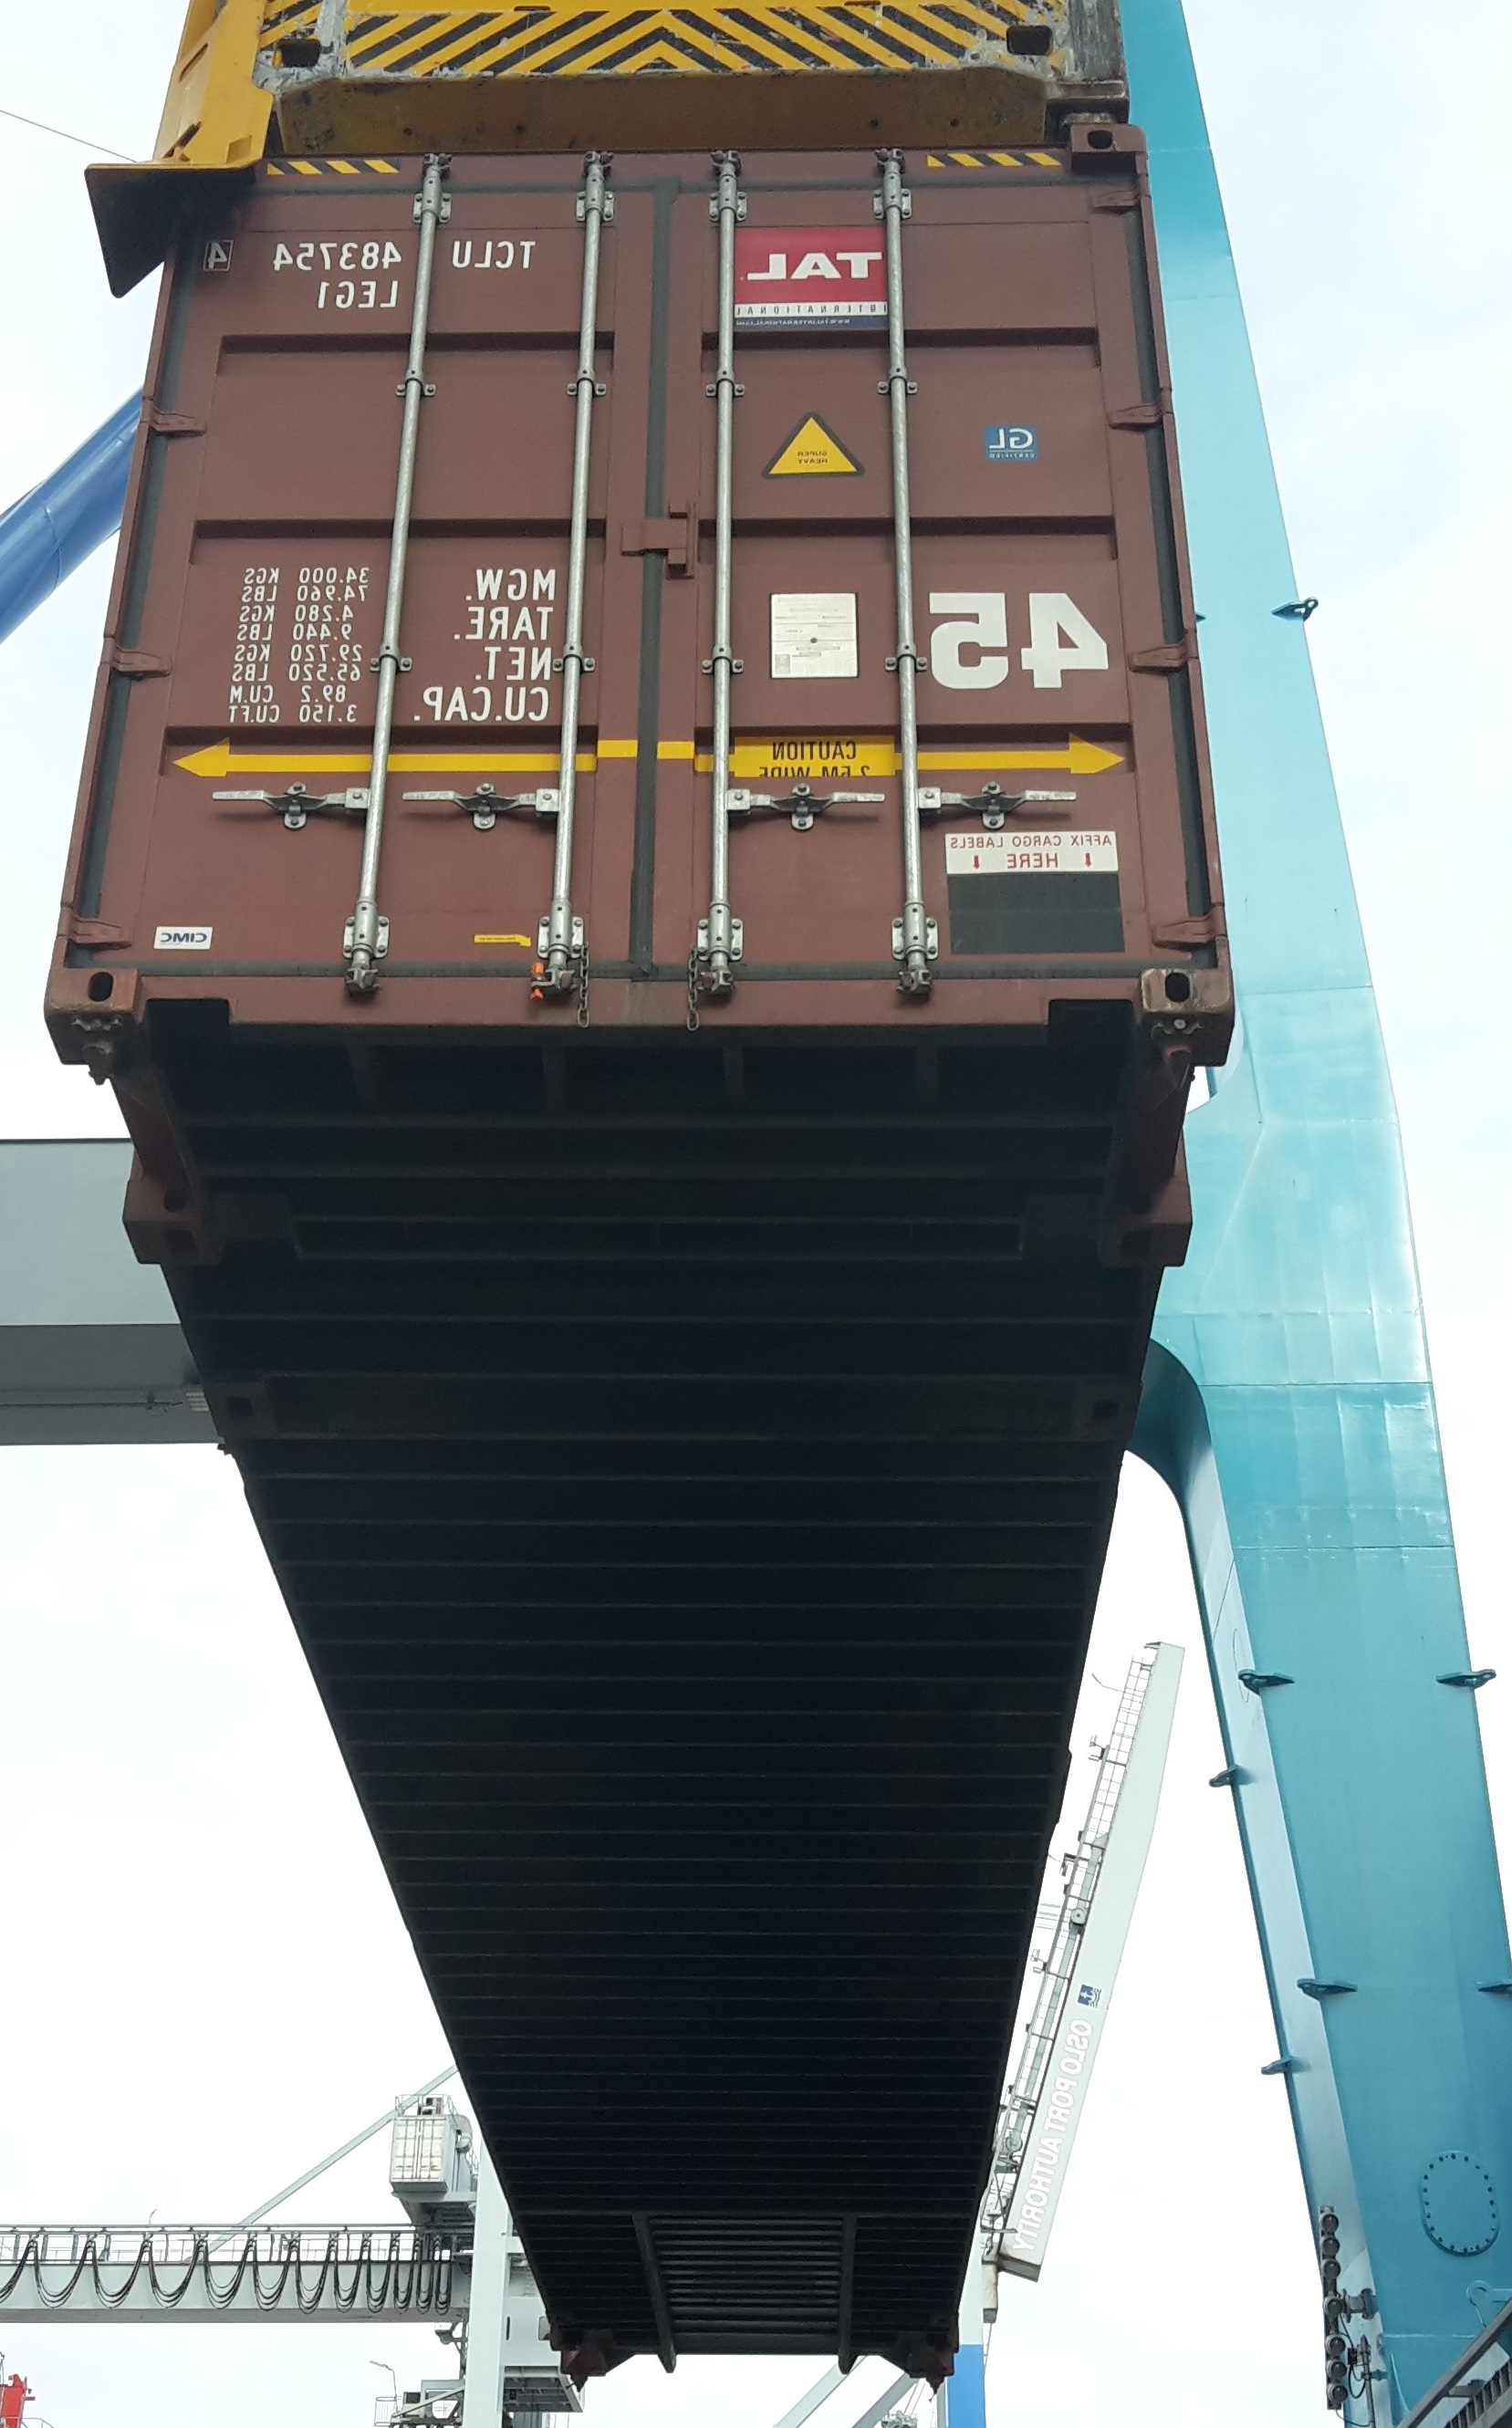container_door: (45, 125, 1266, 1012)
